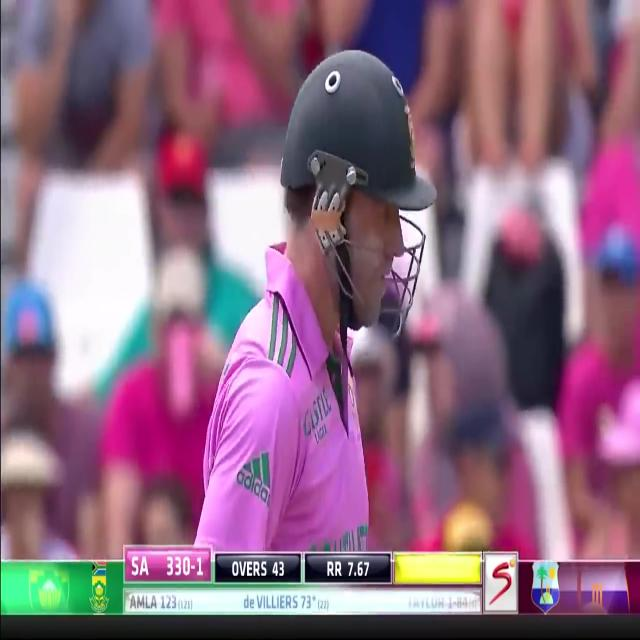Ball: (191, 43, 382, 551)
